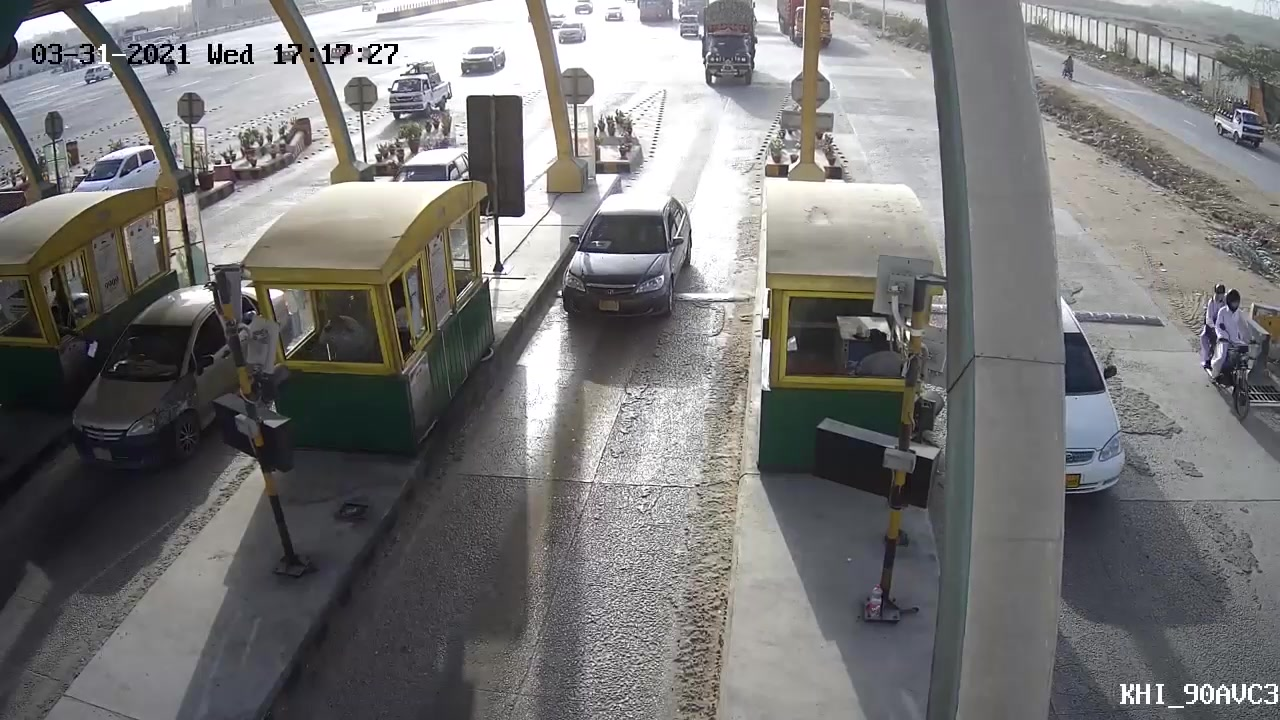F1: (557, 181, 696, 326)
